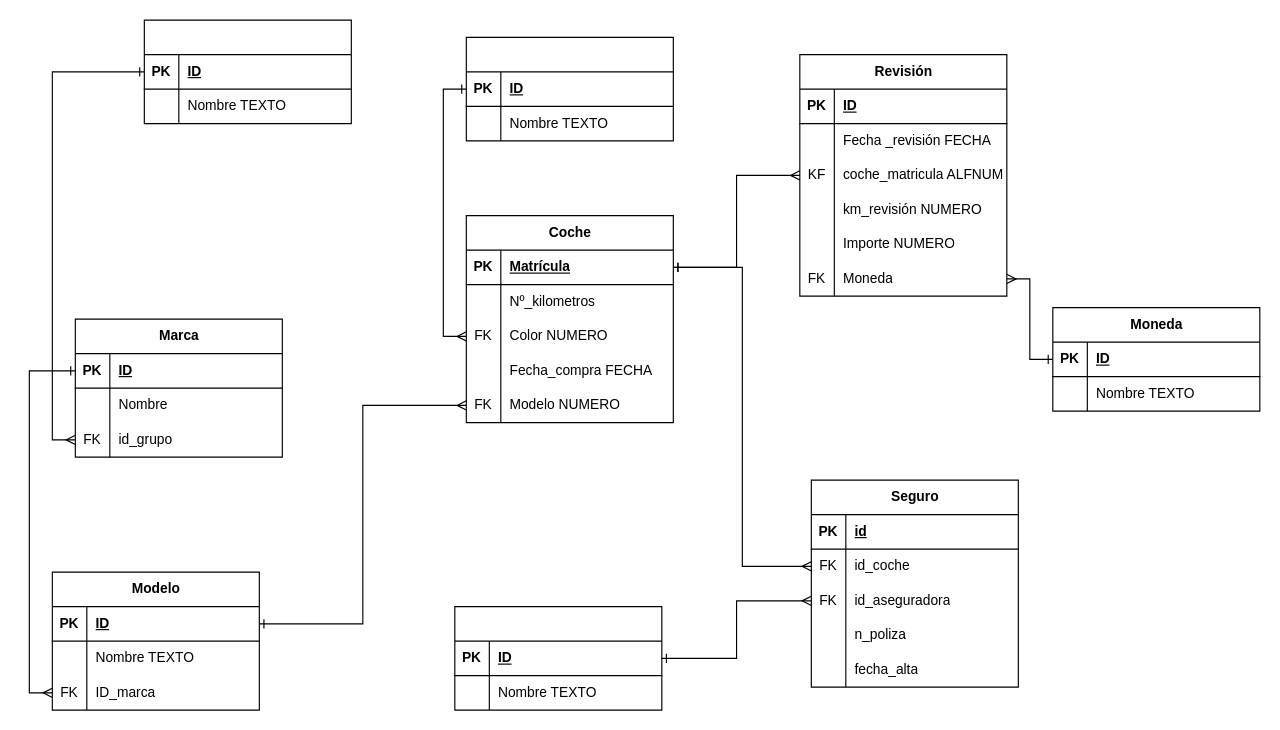
Image size: 1280x730. Some labels were removed from this diagram. Here are the shapes that lost their labels. From the top down, the box of each, then its label:
(143, 19, 351, 124): Grupo empresarial
(465, 36, 673, 141): Color
(454, 605, 662, 710): Aseguradora
